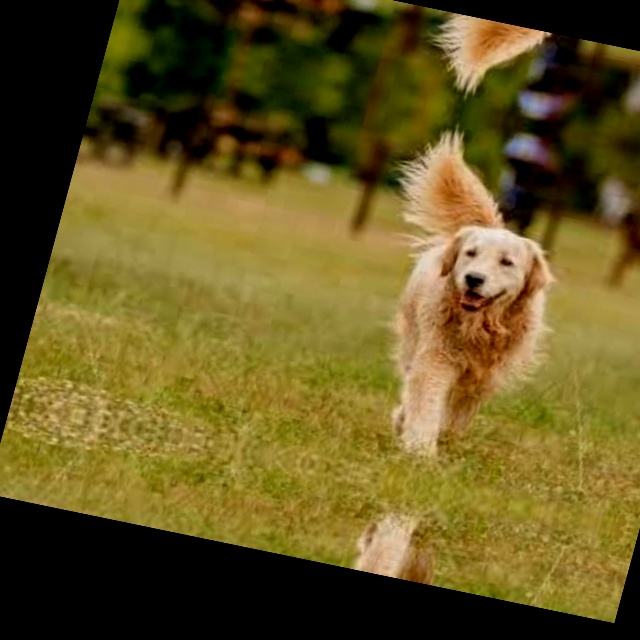dog: (335, 116, 609, 472), (428, 12, 638, 129), (301, 500, 507, 598)
